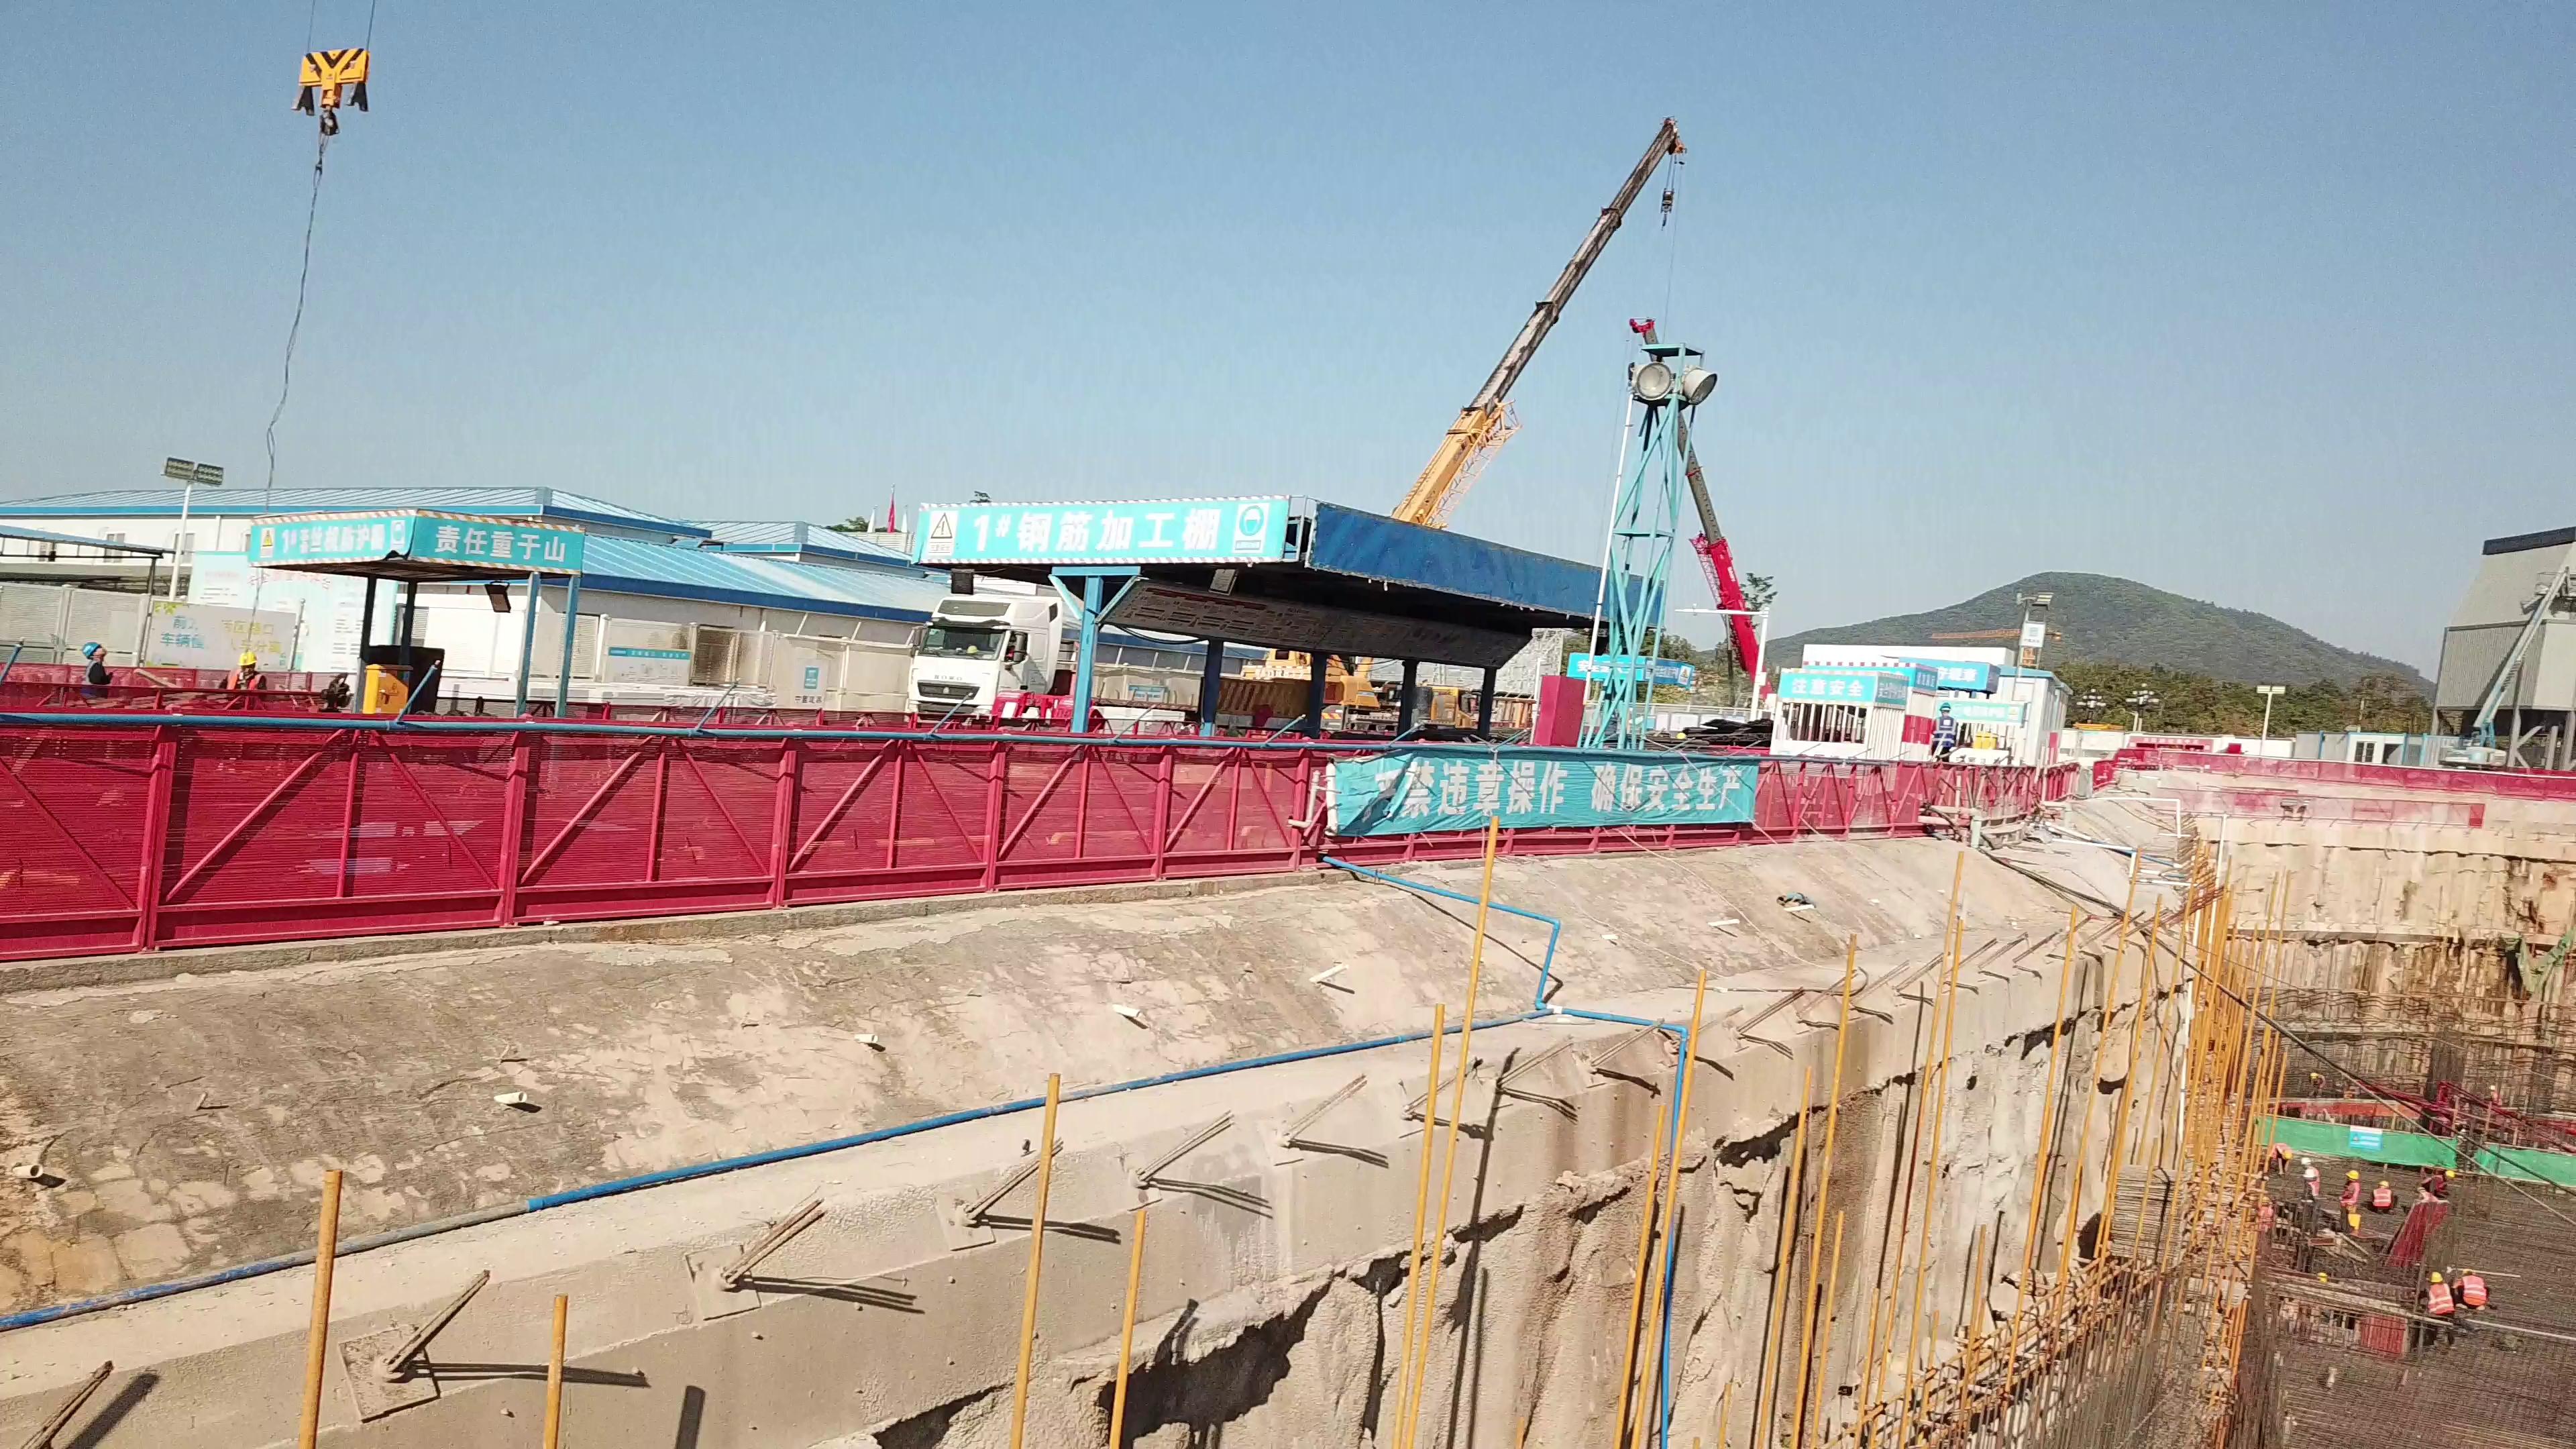helmet: (82, 638, 101, 659), (237, 651, 257, 666), (2302, 1167, 2318, 1179), (2346, 1167, 2360, 1180), (2316, 1270, 2330, 1282), (1940, 699, 1955, 709), (2430, 1272, 2445, 1283), (2447, 1168, 2457, 1181), (2282, 1149, 2294, 1160), (2380, 1179, 2391, 1189), (2302, 1157, 2312, 1165), (2461, 1269, 2477, 1274), (2310, 1069, 2317, 1079), (2488, 1084, 2498, 1090)
person: (75, 637, 118, 702), (2421, 1270, 2458, 1346), (221, 647, 268, 692), (2336, 1167, 2364, 1235), (2455, 1267, 2495, 1312), (2418, 1163, 2464, 1201), (2260, 1138, 2296, 1177), (2367, 1173, 2400, 1216), (2297, 1167, 2325, 1216), (2301, 1151, 2326, 1193), (2302, 1068, 2330, 1099), (2483, 1085, 2509, 1108)
vest: (2426, 1285, 2453, 1313), (224, 669, 263, 689), (1934, 716, 1958, 745), (2461, 1275, 2486, 1303), (2342, 1182, 2358, 1205), (2373, 1188, 2393, 1207)
